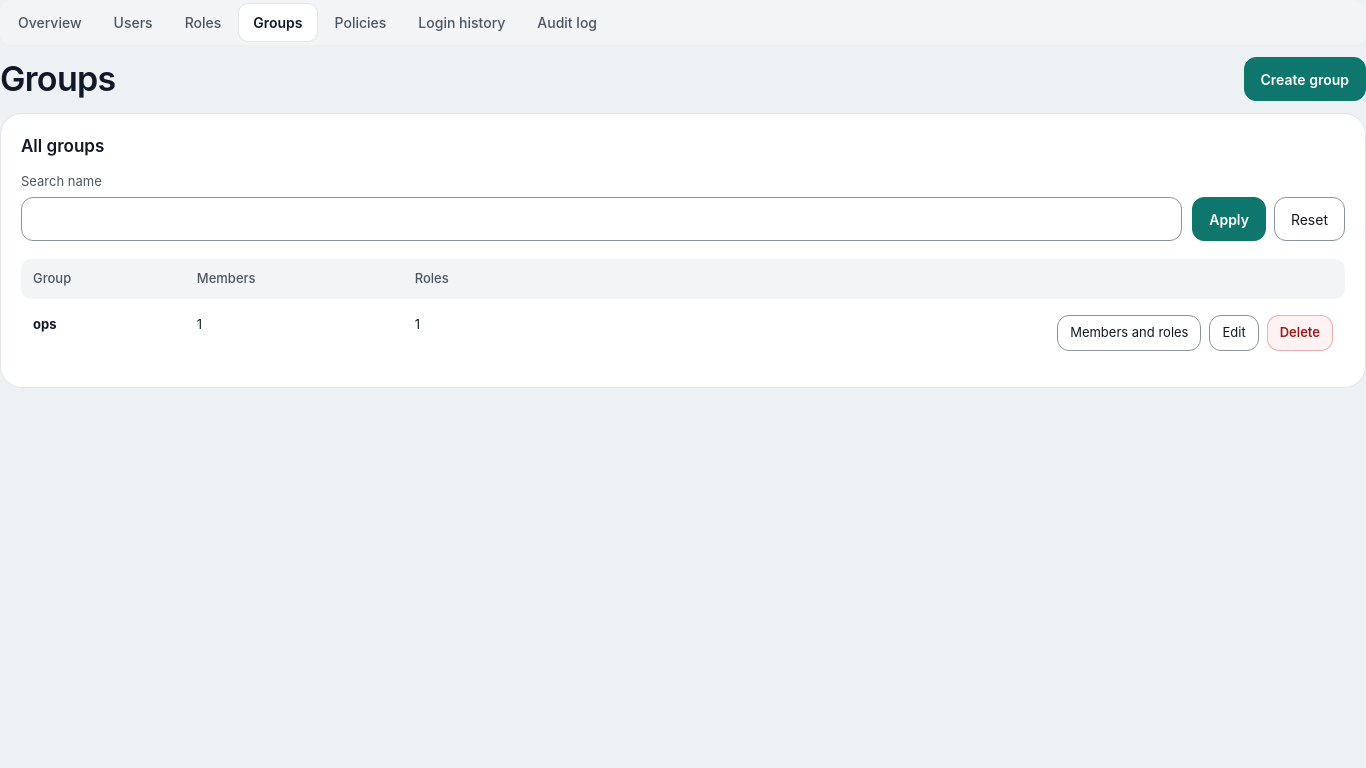
Scenario: IAM groups › confirms before deleting a group
Click the button with aria-label "Delete ops": (1300, 332) [1267, 314, 1333, 350]
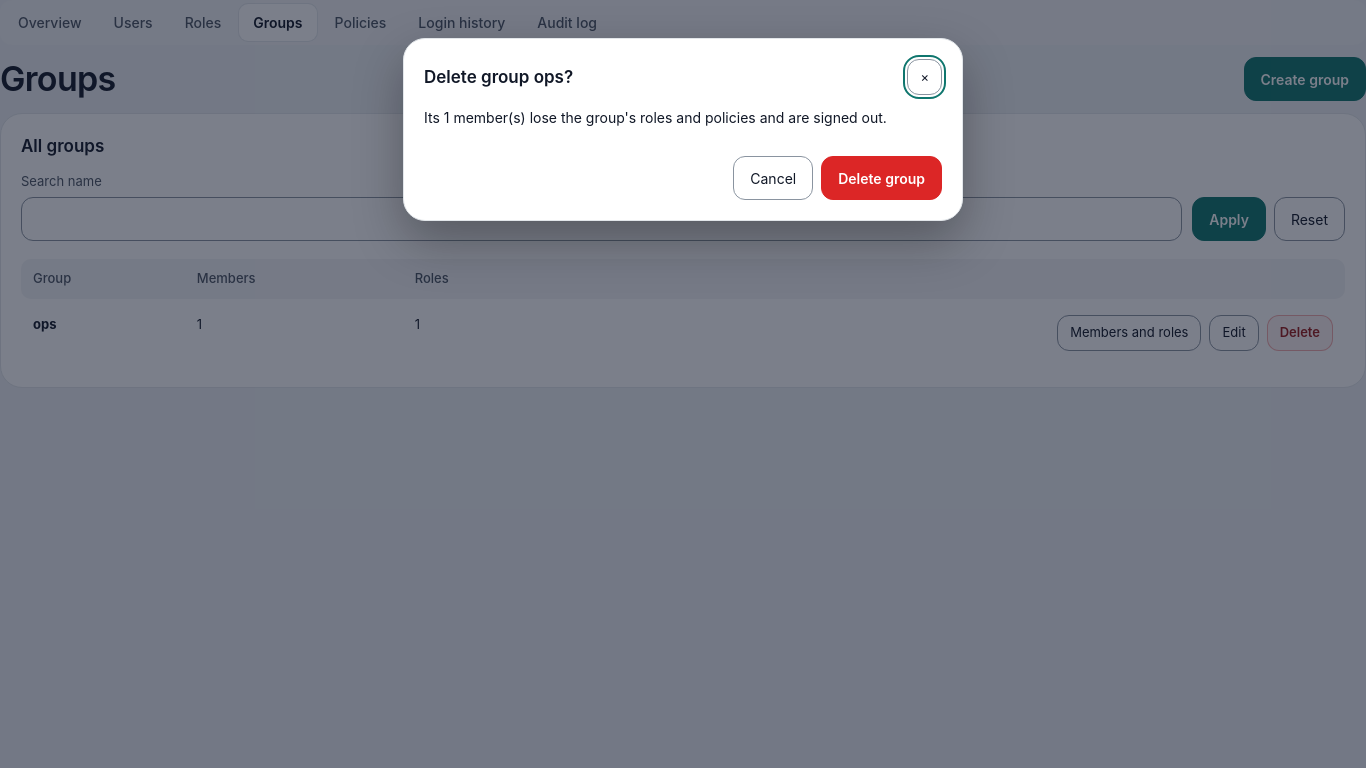
Click the button "Delete group": (882, 178) [821, 156, 942, 200]
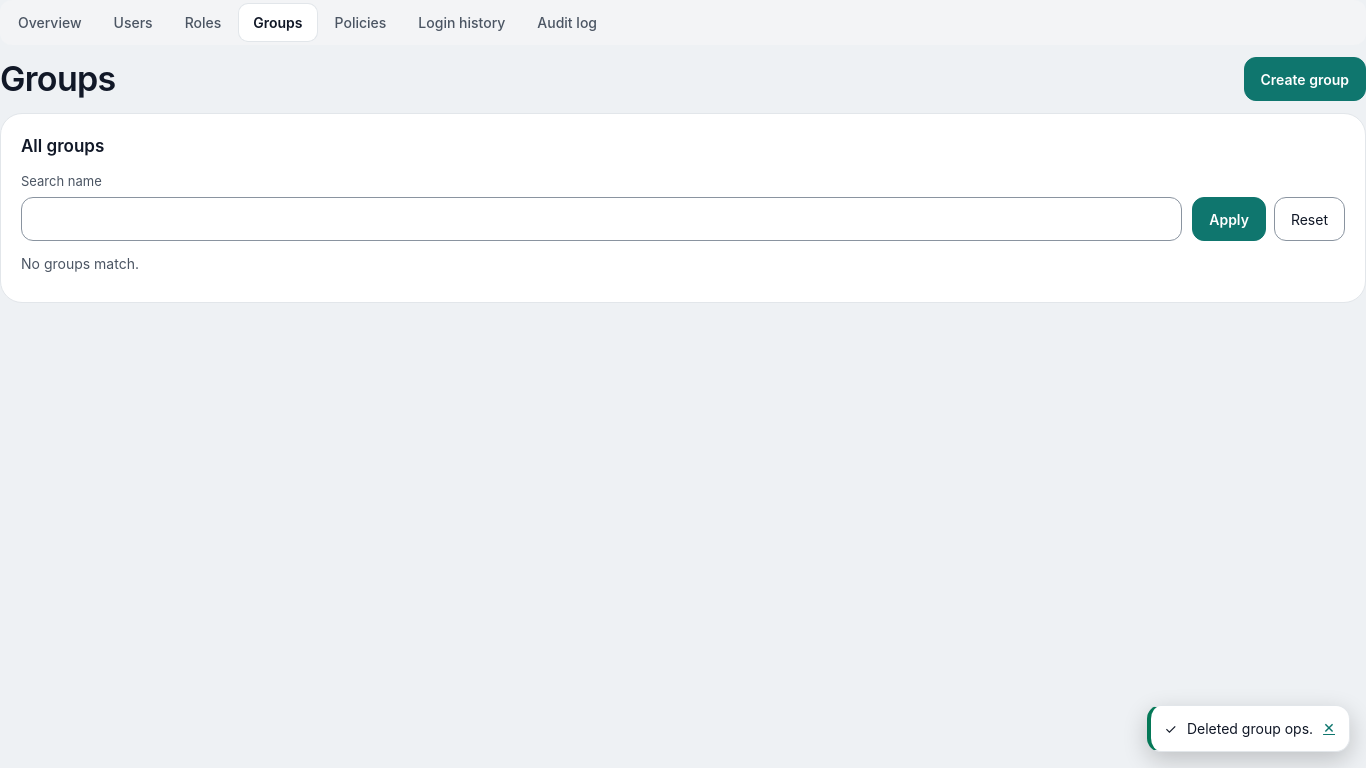
Expected: the text "No groups match." is shown, [21, 255, 139, 272]
